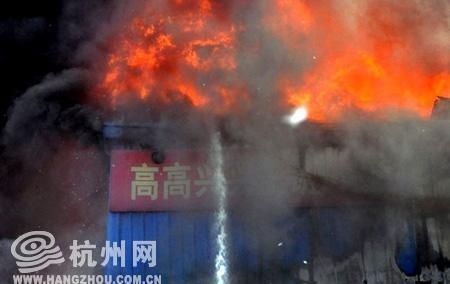fire: (280, 9, 450, 121), (102, 5, 240, 109)
